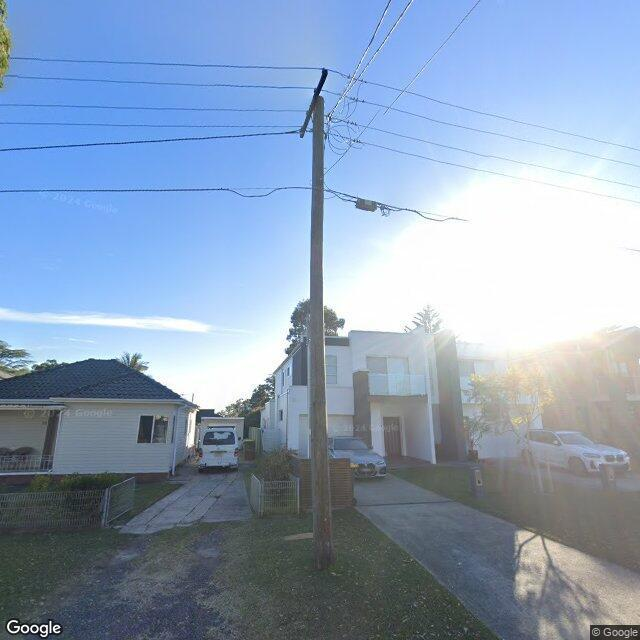crossarm: (299, 68, 329, 138)
timber-pole: (310, 95, 334, 570)
